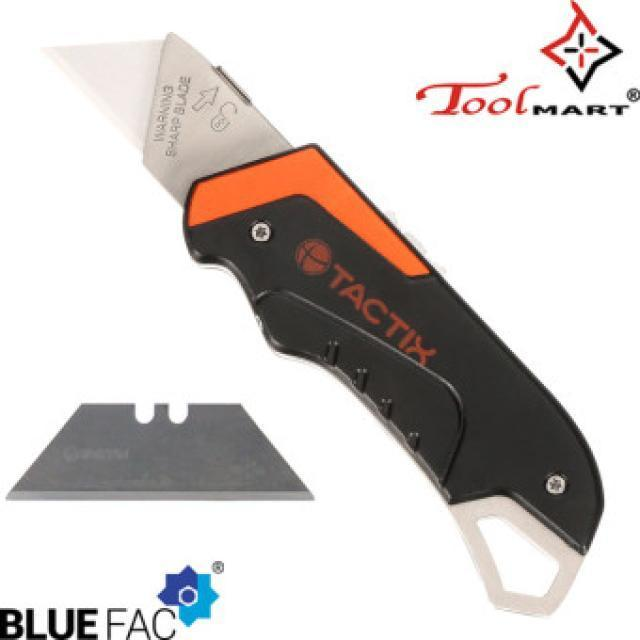cutter: (44, 33, 611, 619)
